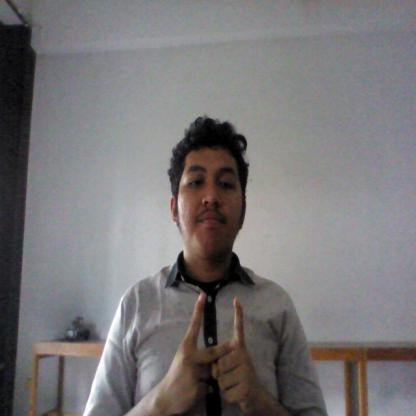H: (174, 288, 253, 416)
